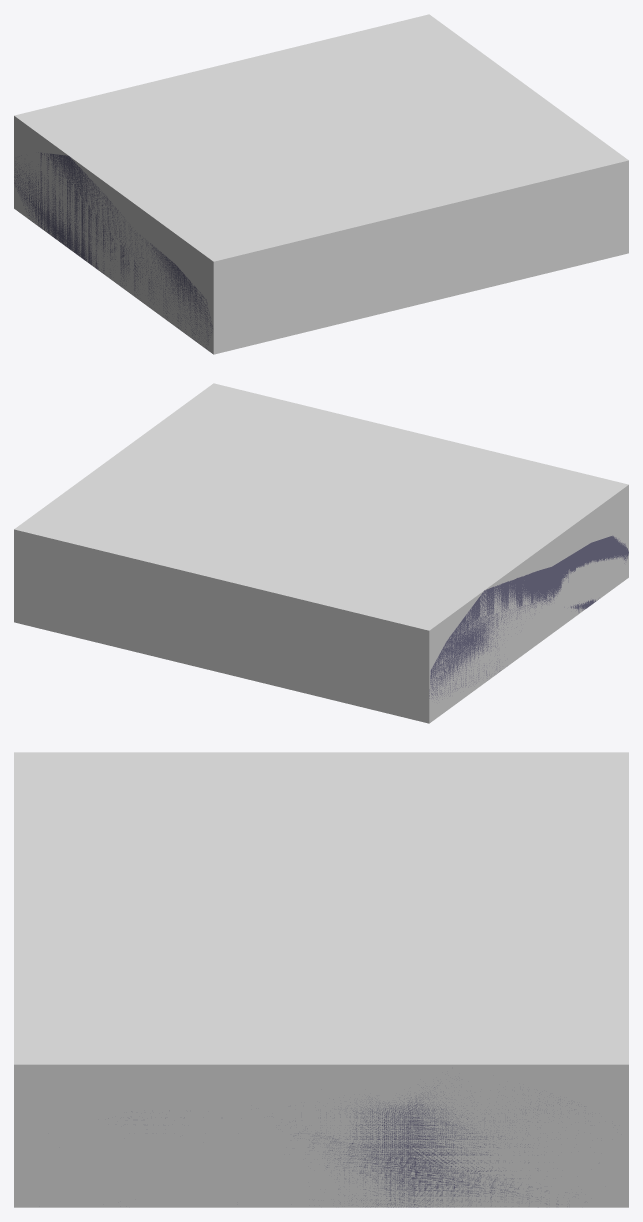
The model's file is Wallet.001.fbx.
The picture shows the model from 3 angles, top to bottom: view 1: azimuth 30°, elevation 25°; view 2: azimuth 150°, elevation 25°; view 3: azimuth 270°, elevation 25°; orthographic projection. The views are drawn at different scales.
Visible parts, largest first — view 1: Wallet.001_COL0, Wallet.001_LOD0; view 2: Wallet.001_COL0, Wallet.001_LOD0; view 3: Wallet.001_COL0, Wallet.001_LOD0.
Part boxes in pixels (x1,y1,x2,y2): Wallet.001_COL0: (14,14,628,354); Wallet.001_LOD0: (14,152,212,348); Wallet.001_COL0: (14,383,628,723); Wallet.001_LOD0: (429,535,628,700); Wallet.001_COL0: (14,752,628,1207); Wallet.001_LOD0: (108,1085,584,1207).
Size of what is drawn, in the model's own units: 0.3089 by 0.066 by 0.2572.
